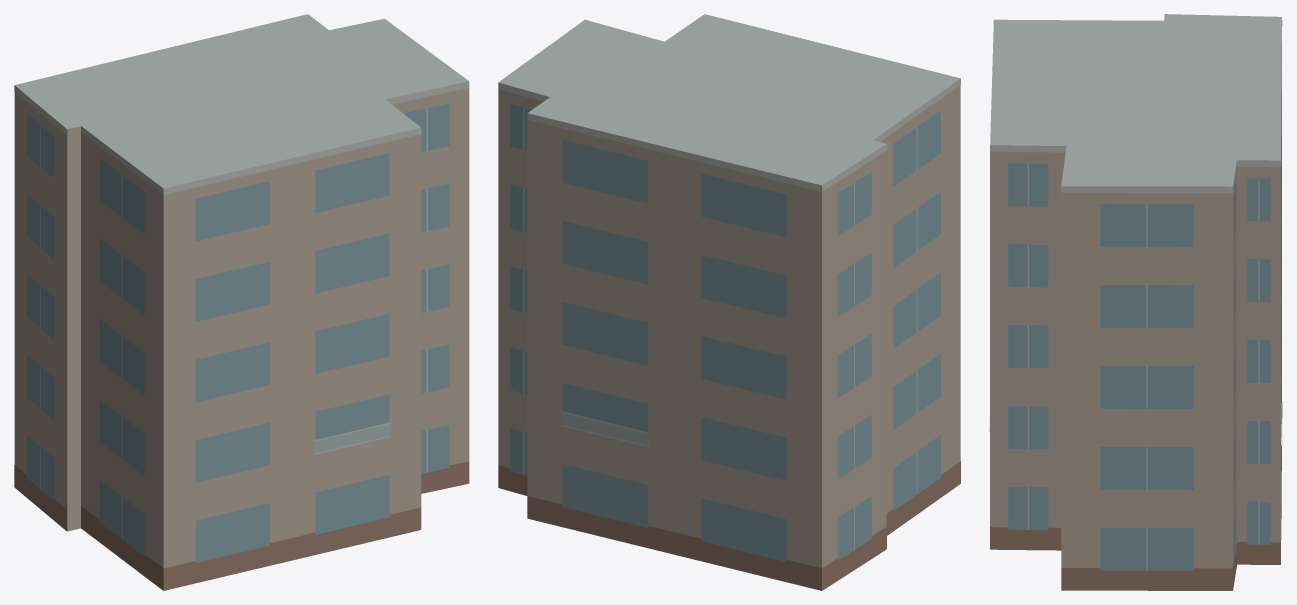
File: survey-upis-33039680.glb
3 renders of one model, left to right at view 1: azimuth 30°, elevation 25°; view 2: azimuth 150°, elevation 25°; view 3: azimuth 270°, elevation 25°, orthographic.
Parts seen in each view (by area): view 1: survey-upis-33039680.tmp; view 2: survey-upis-33039680.tmp; view 3: survey-upis-33039680.tmp.
Boxes of the visible parts, box(x1,y1,x2,y2) form: survey-upis-33039680.tmp: box(14, 14, 469, 590); survey-upis-33039680.tmp: box(498, 14, 960, 590); survey-upis-33039680.tmp: box(989, 14, 1282, 590).
Bounding box in the file's own units: 13.77 × 15.05 × 9.89.
